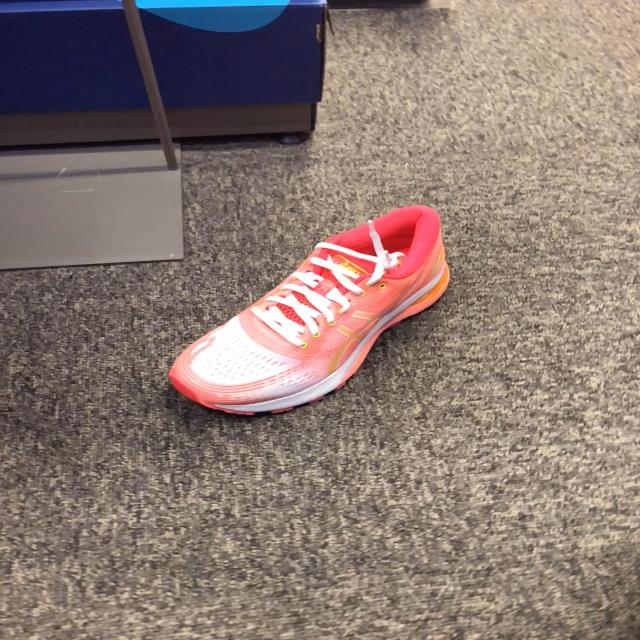shoe: (166, 206, 452, 420)
